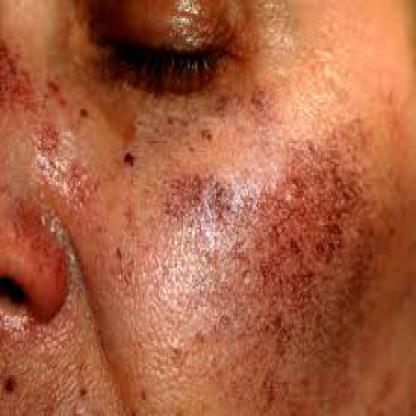darkspot: (171, 157, 389, 391), (0, 34, 96, 414), (113, 144, 156, 402), (186, 100, 298, 141)
